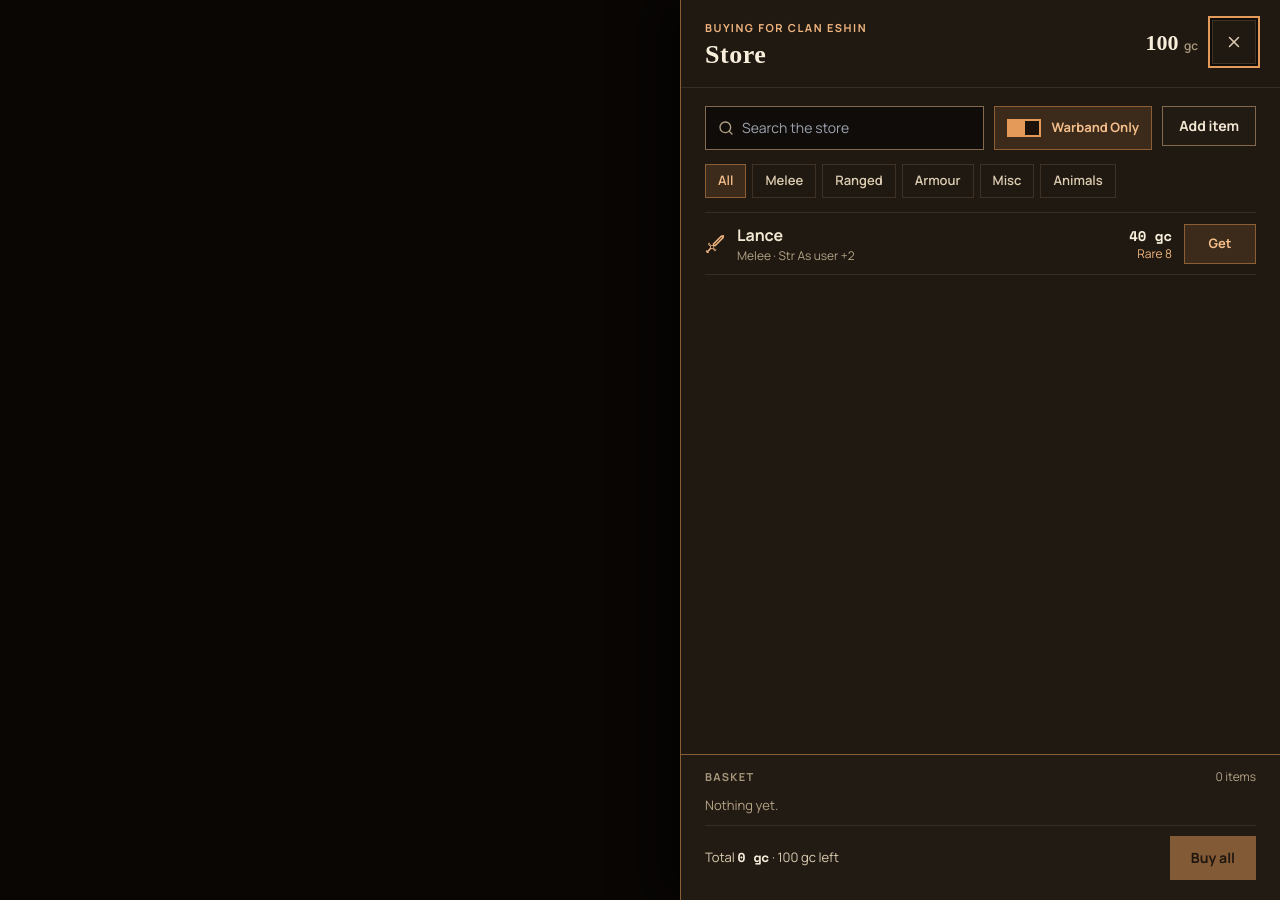
StorePanel, Add item › opens the item dialog, and the new campaign item opens in the store, ready to buy
This screenshot has width=1280, height=900.
Click the button "Add item" at (1209, 126), box top-left (1162, 106), bottom-right (1256, 146)
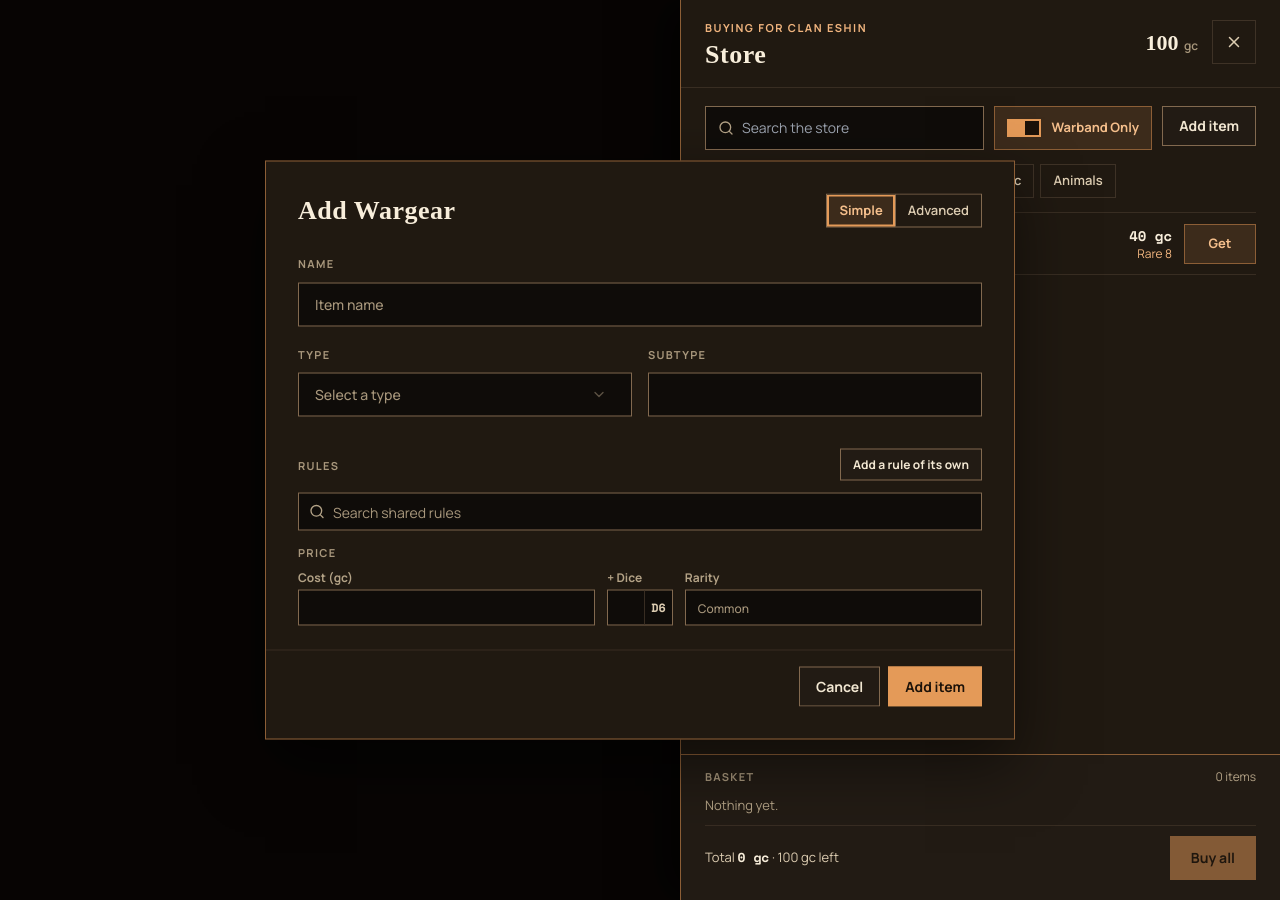
Type "Rope and Hook" into the field labelled "Name" at (640, 304), box top-left (298, 282), bottom-right (982, 326)
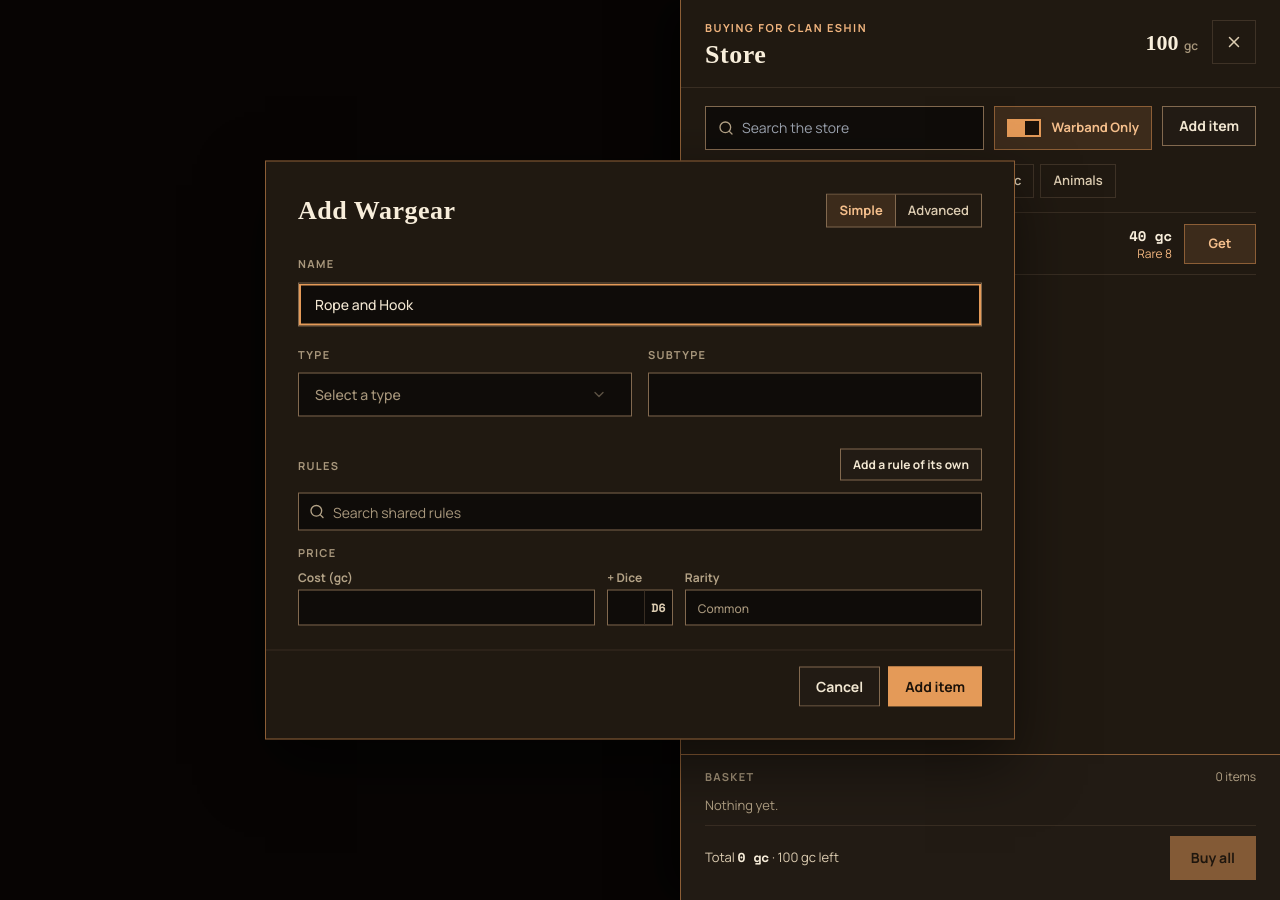
Click the dropdown labelled "type" at (358, 394), box top-left (298, 372), bottom-right (632, 416)
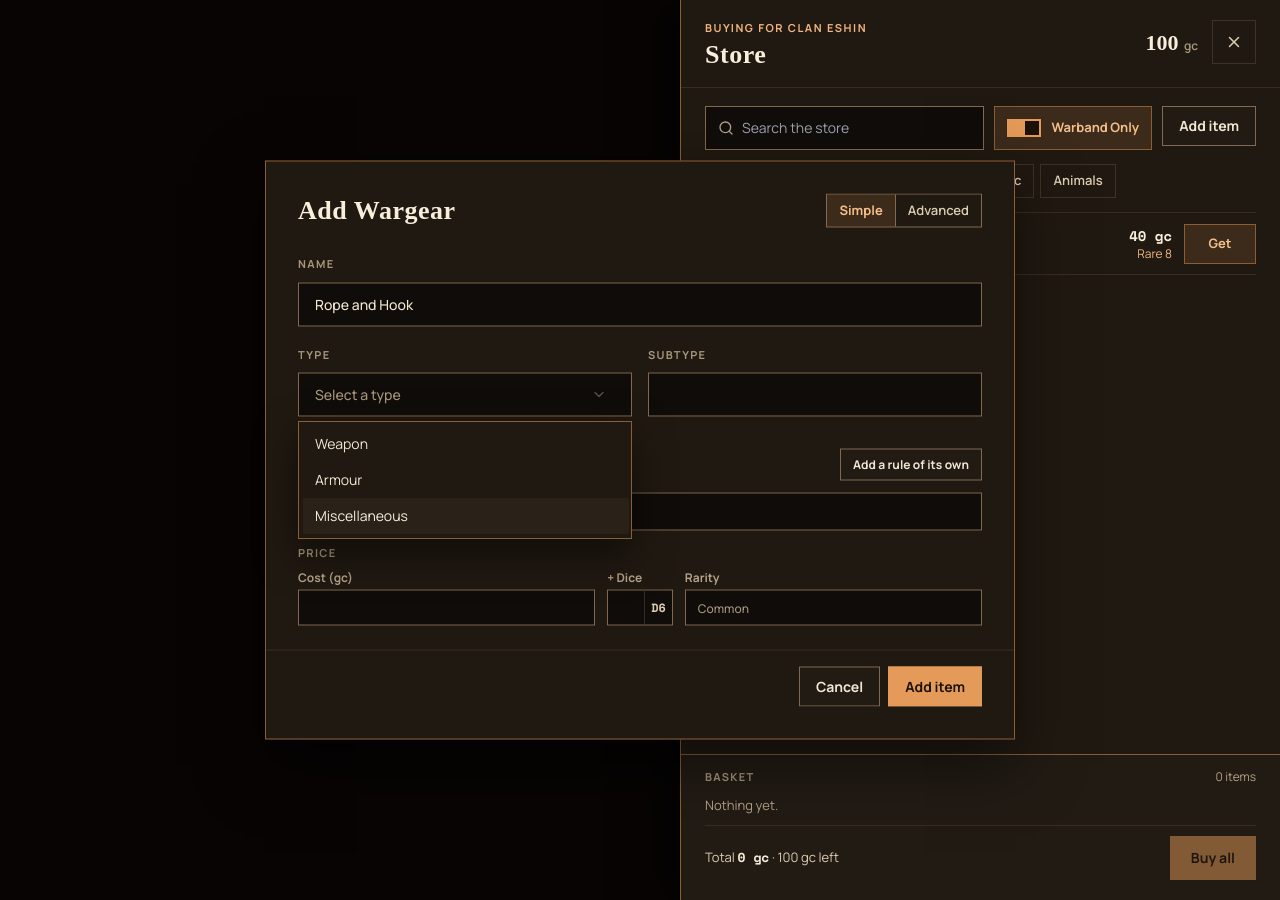
Press Enter
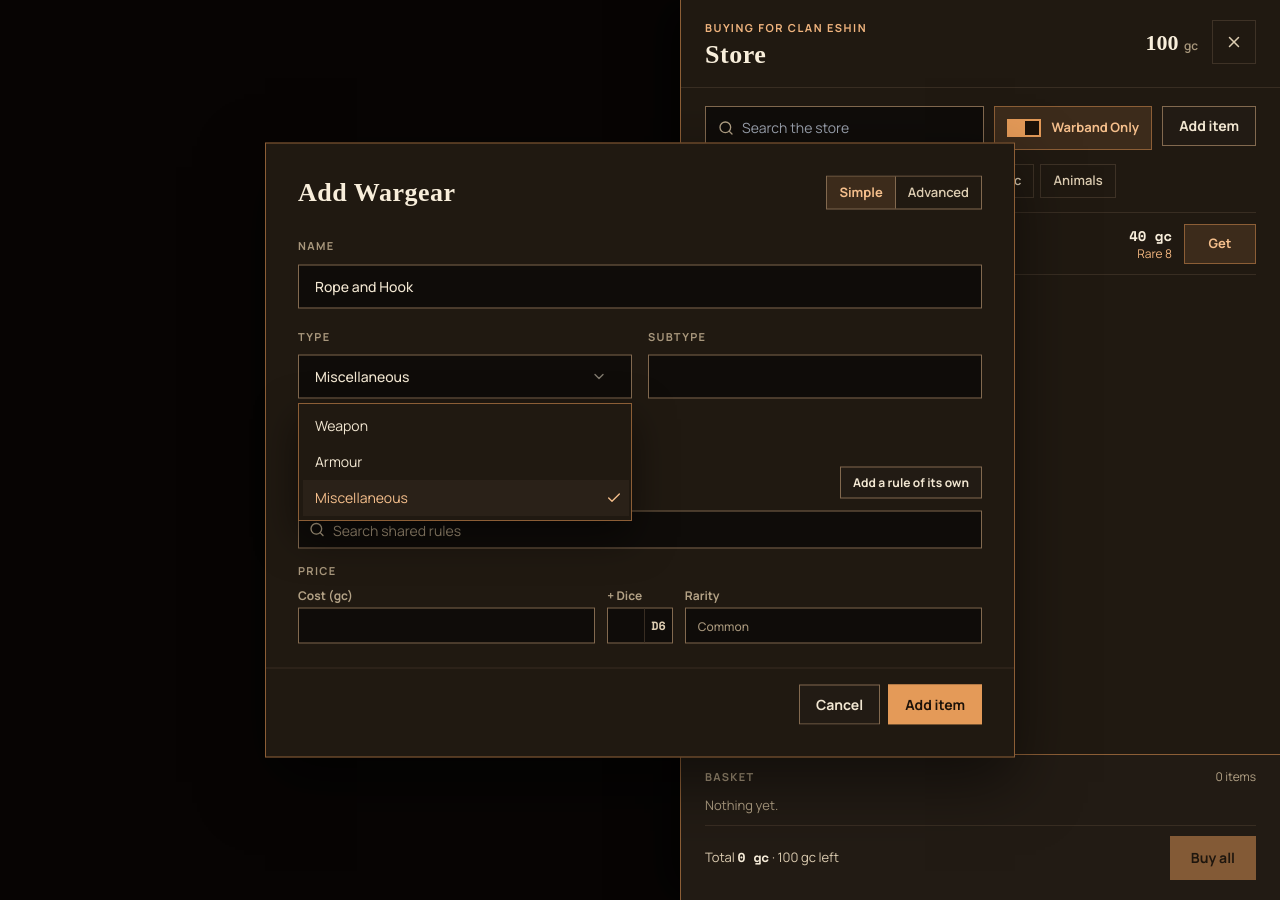
Type "5" into the field labelled "Cost (gc)" at (447, 626), box top-left (298, 608), bottom-right (595, 644)
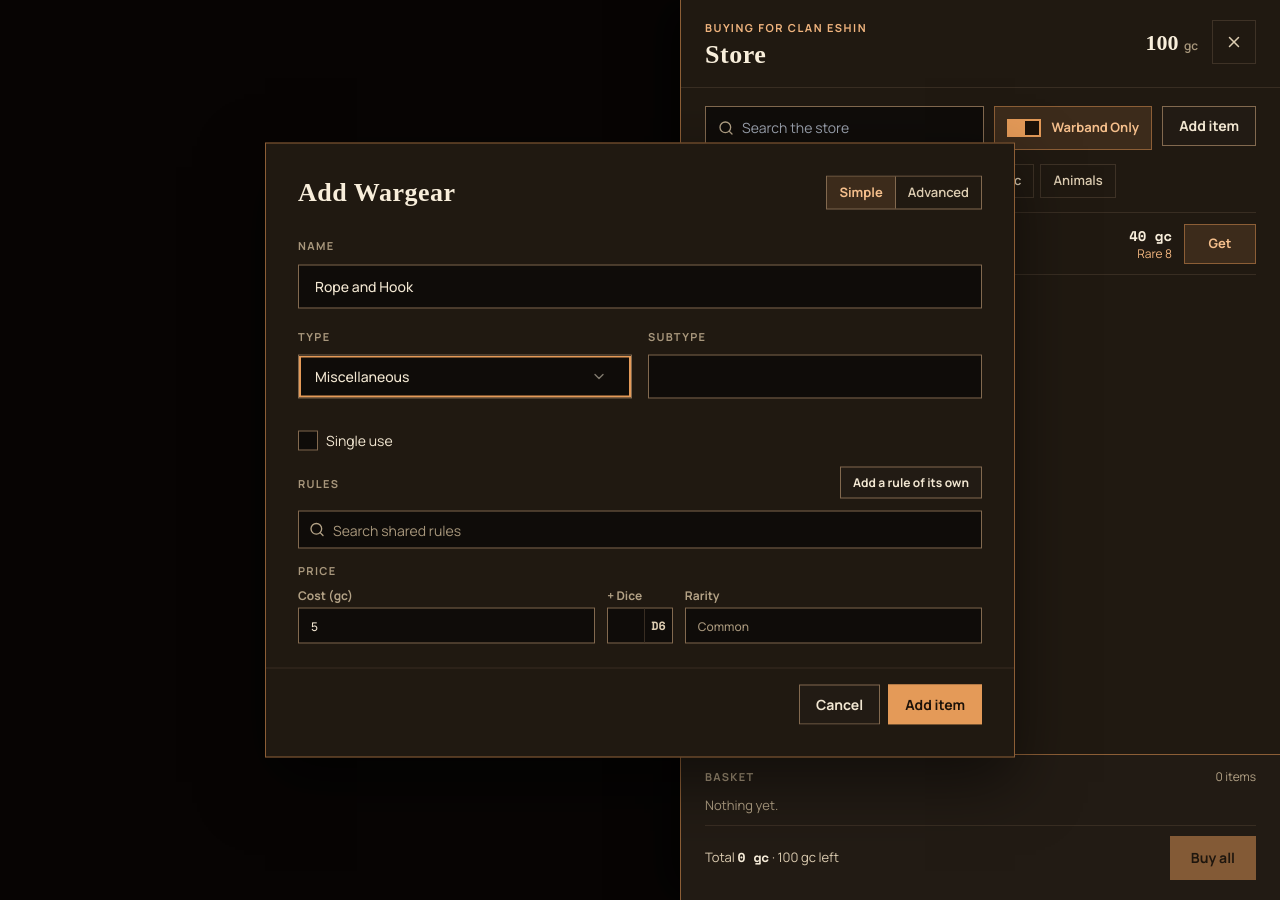
Click the button "Add item" at (935, 704), box top-left (888, 684), bottom-right (982, 724)
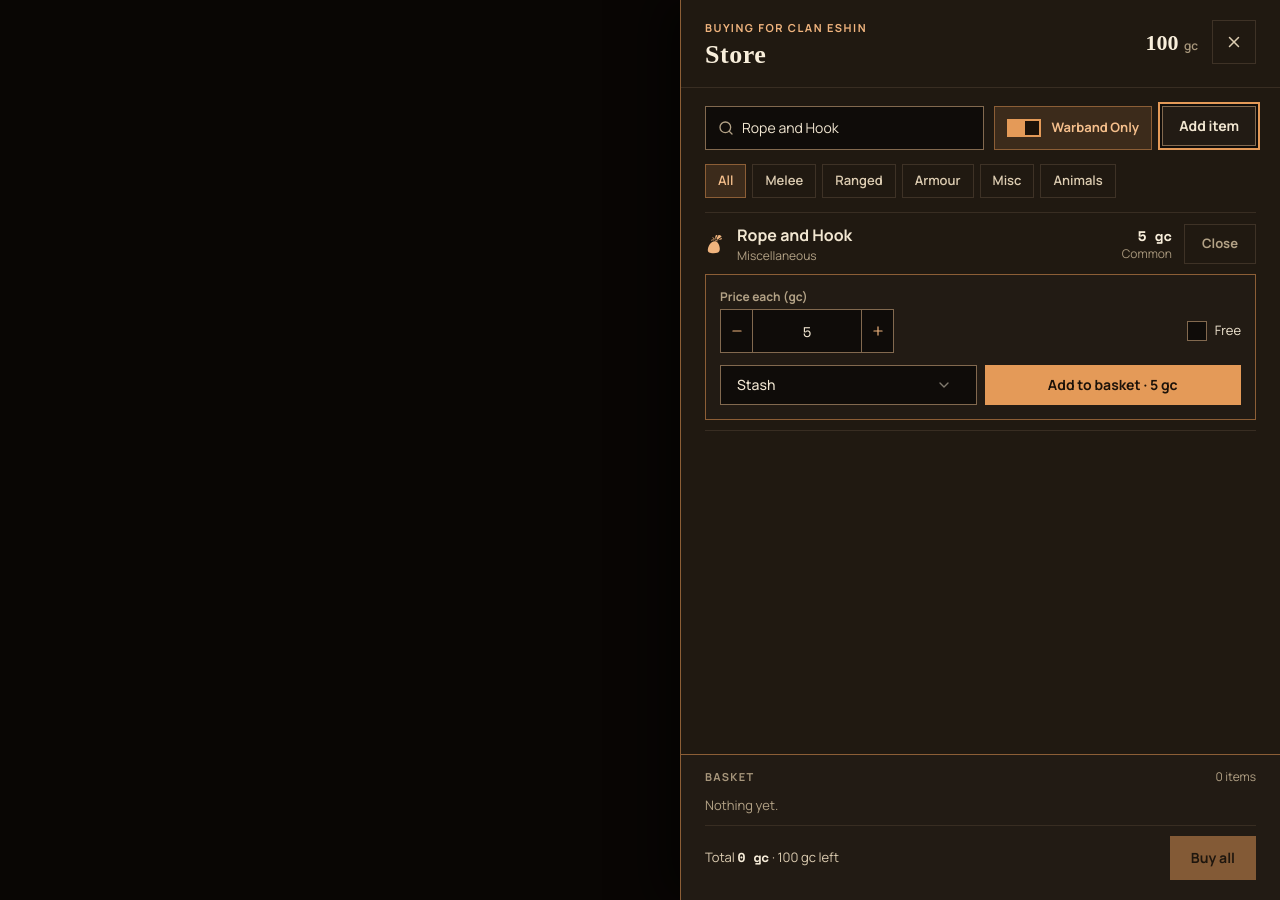
Check: the number field named "Price each for Rope and Hook" is shown, box top-left (752, 309), bottom-right (862, 353)
Check: the search field named "Search the store" holds "Rope and Hook", box top-left (742, 118), bottom-right (971, 138)
